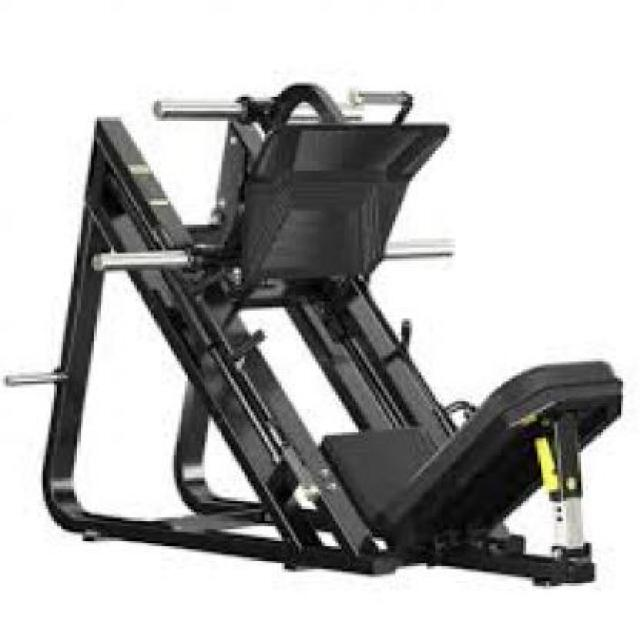leg press: (3, 87, 632, 596)
